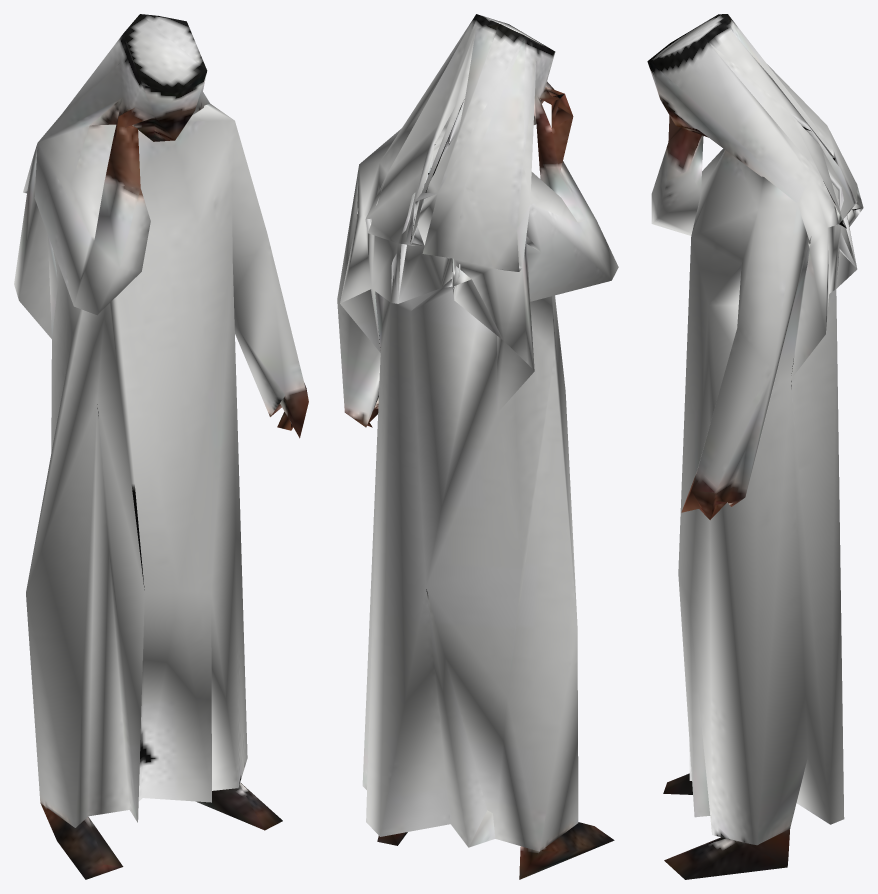
Rendered from gcc-2.glb.
3 views of the same model, side by side, from view 1: azimuth 30°, elevation 25°; view 2: azimuth 150°, elevation 25°; view 3: azimuth 270°, elevation 25° (orthographic).
Visible parts, largest first — view 1: Mesh_0; view 2: Mesh_0; view 3: Mesh_0.
Part boxes in pixels (x1=…): Mesh_0: x1=14, y1=14, x2=308, y2=879; Mesh_0: x1=337, y1=14, x2=618, y2=879; Mesh_0: x1=647, y1=14, x2=863, y2=879.
Size of the model in its own units: 0.6147 by 1.89 by 0.4561.
1 material, 1 textured.
